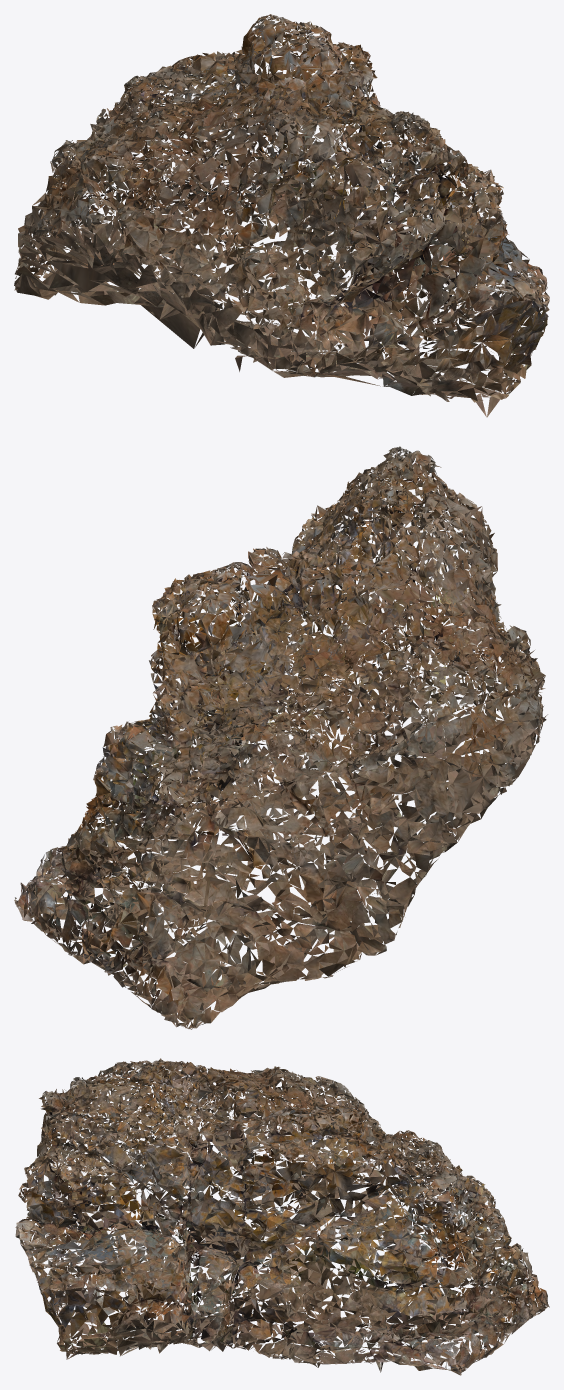
File: boulder_01_lod1.gltf
The picture shows the model from 3 angles, top to bottom: view 1: azimuth 30°, elevation 25°; view 2: azimuth 150°, elevation 25°; view 3: azimuth 270°, elevation 25°; orthographic projection. The views are drawn at different scales.
Parts seen in each view (by area): view 1: boulder_01_lod1; view 2: boulder_01_lod1; view 3: boulder_01_lod1.
Boxes of the visible parts, x1,y1,x2,y2 form: boulder_01_lod1: [14, 14, 549, 417]; boulder_01_lod1: [14, 446, 547, 1029]; boulder_01_lod1: [15, 1058, 549, 1375].
Bounding box in the file's own units: 1.28 × 1.01 × 1.84.
Materials: 1 (1 with a texture image).
